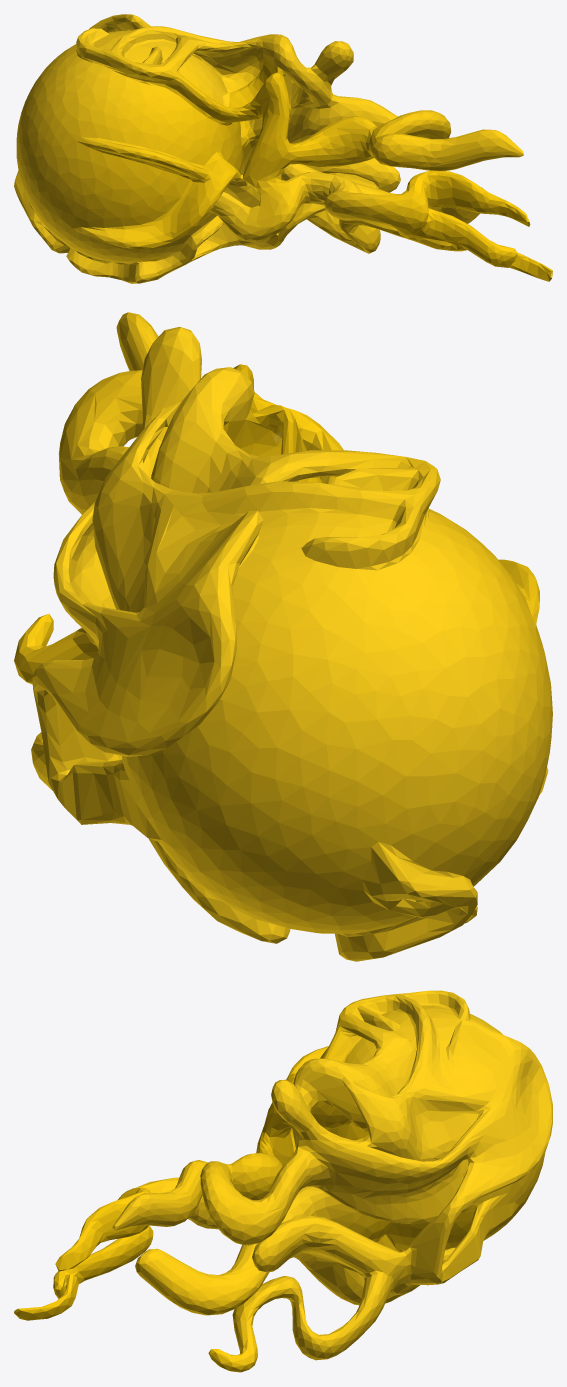
3 renders of one model, top to bottom at view 1: azimuth 30°, elevation 25°; view 2: azimuth 150°, elevation 25°; view 3: azimuth 270°, elevation 25°, orthographic. The views are drawn at different scales.
Bounding box in the file's own units: 2.61 × 1.7 × 3.17.
1 material, 1 textured.
